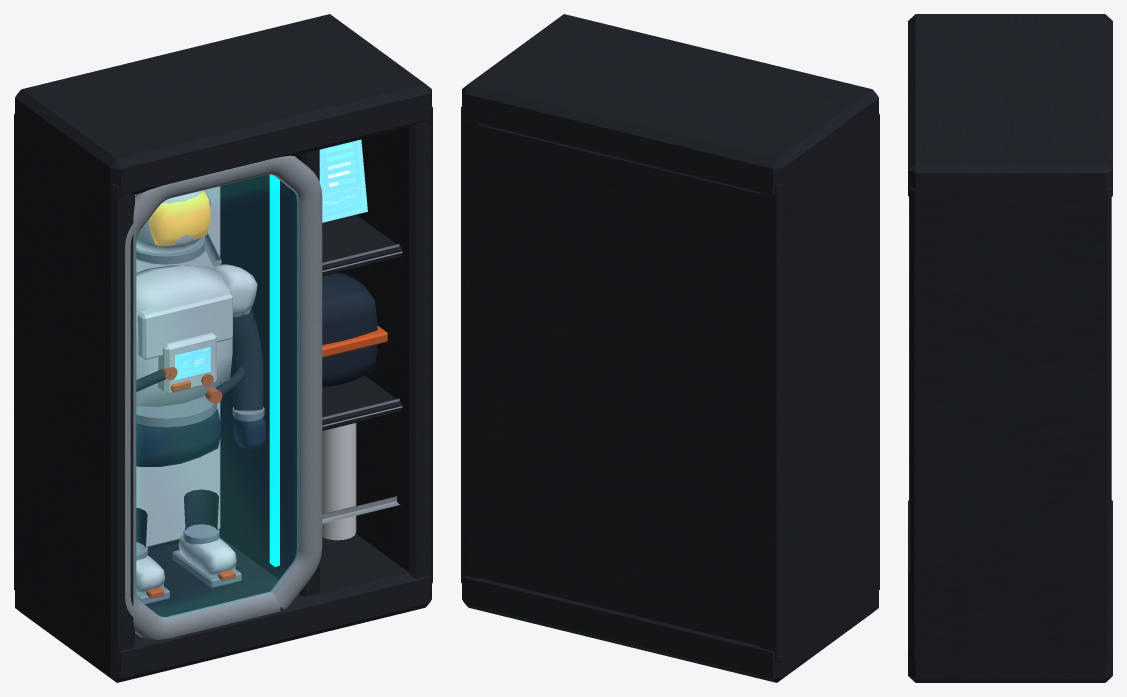
Rendered from locker_r1_02.glb.
The picture shows the model from 3 angles, left to right: view 1: azimuth 30°, elevation 25°; view 2: azimuth 150°, elevation 25°; view 3: azimuth 270°, elevation 25°; orthographic projection.
Visible parts, largest first — view 1: Locker02_SplitBayGunmetalCabinet, Locker02_LeftBayTranslucentGlassDoor, Locker02_MachinedSteelFrameAndLips, EVAKit_WhiteHelmetAndTorsoArmor, Locker02_WhiteBayLinerAndO2Tanks, EVAKit_MachinedGantryRingsAndSoles, EVAKit_BallisticCharcoalSleevesAndHoses, Locker02_StowedOrbitalNavyFlightBag, Locker02_LeftBayCyanLED, EVAKit_OrbitalNavySuitLayers, Locker02_RightBayOLEDTelemetry, EVAKit_GoldIridiumBubbleVisor (+3 smaller); view 2: Locker02_SplitBayGunmetalCabinet; view 3: Locker02_SplitBayGunmetalCabinet, Locker02_MachinedSteelFrameAndLips.
Part boxes in pixels (x1,y1,x2,y2): Locker02_SplitBayGunmetalCabinet: (14, 14, 432, 682); Locker02_LeftBayTranslucentGlassDoor: (137, 175, 298, 618); Locker02_MachinedSteelFrameAndLips: (125, 155, 402, 639); EVAKit_WhiteHelmetAndTorsoArmor: (135, 189, 257, 592); Locker02_WhiteBayLinerAndO2Tanks: (136, 186, 356, 546); EVAKit_MachinedGantryRingsAndSoles: (136, 190, 264, 604); EVAKit_BallisticCharcoalSleevesAndHoses: (136, 308, 263, 547); Locker02_StowedOrbitalNavyFlightBag: (322, 272, 377, 387); Locker02_LeftBayCyanLED: (269, 174, 279, 566); EVAKit_OrbitalNavySuitLayers: (136, 409, 265, 466); Locker02_RightBayOLEDTelemetry: (319, 139, 367, 222); EVAKit_GoldIridiumBubbleVisor: (148, 191, 210, 246); Locker02_SplitBayGunmetalCabinet: (461, 14, 879, 682); Locker02_SplitBayGunmetalCabinet: (908, 14, 1112, 682); Locker02_MachinedSteelFrameAndLips: (909, 197, 909, 572).
Bounding box in the file's own units: 1.35 × 2.1 × 0.75.
11 materials, 11 textured.
